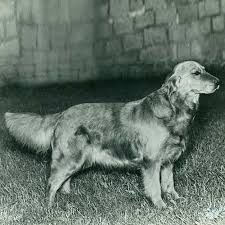Golden Retriever: (8, 52, 223, 214)
